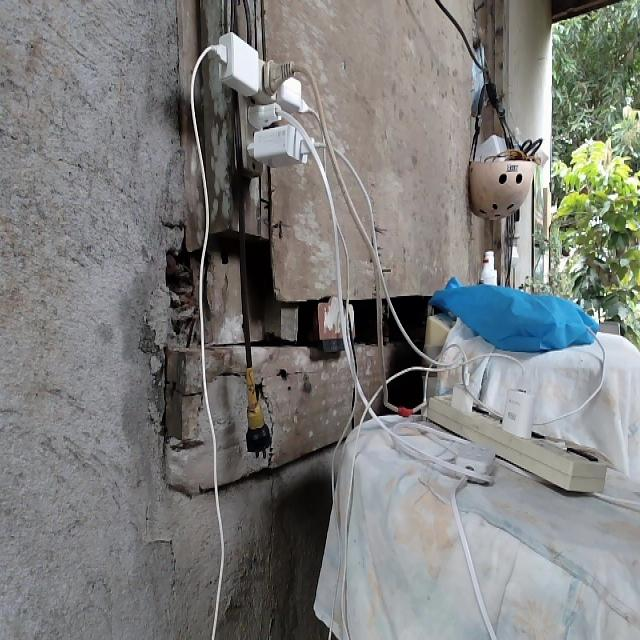-: (205, 27, 327, 166)
